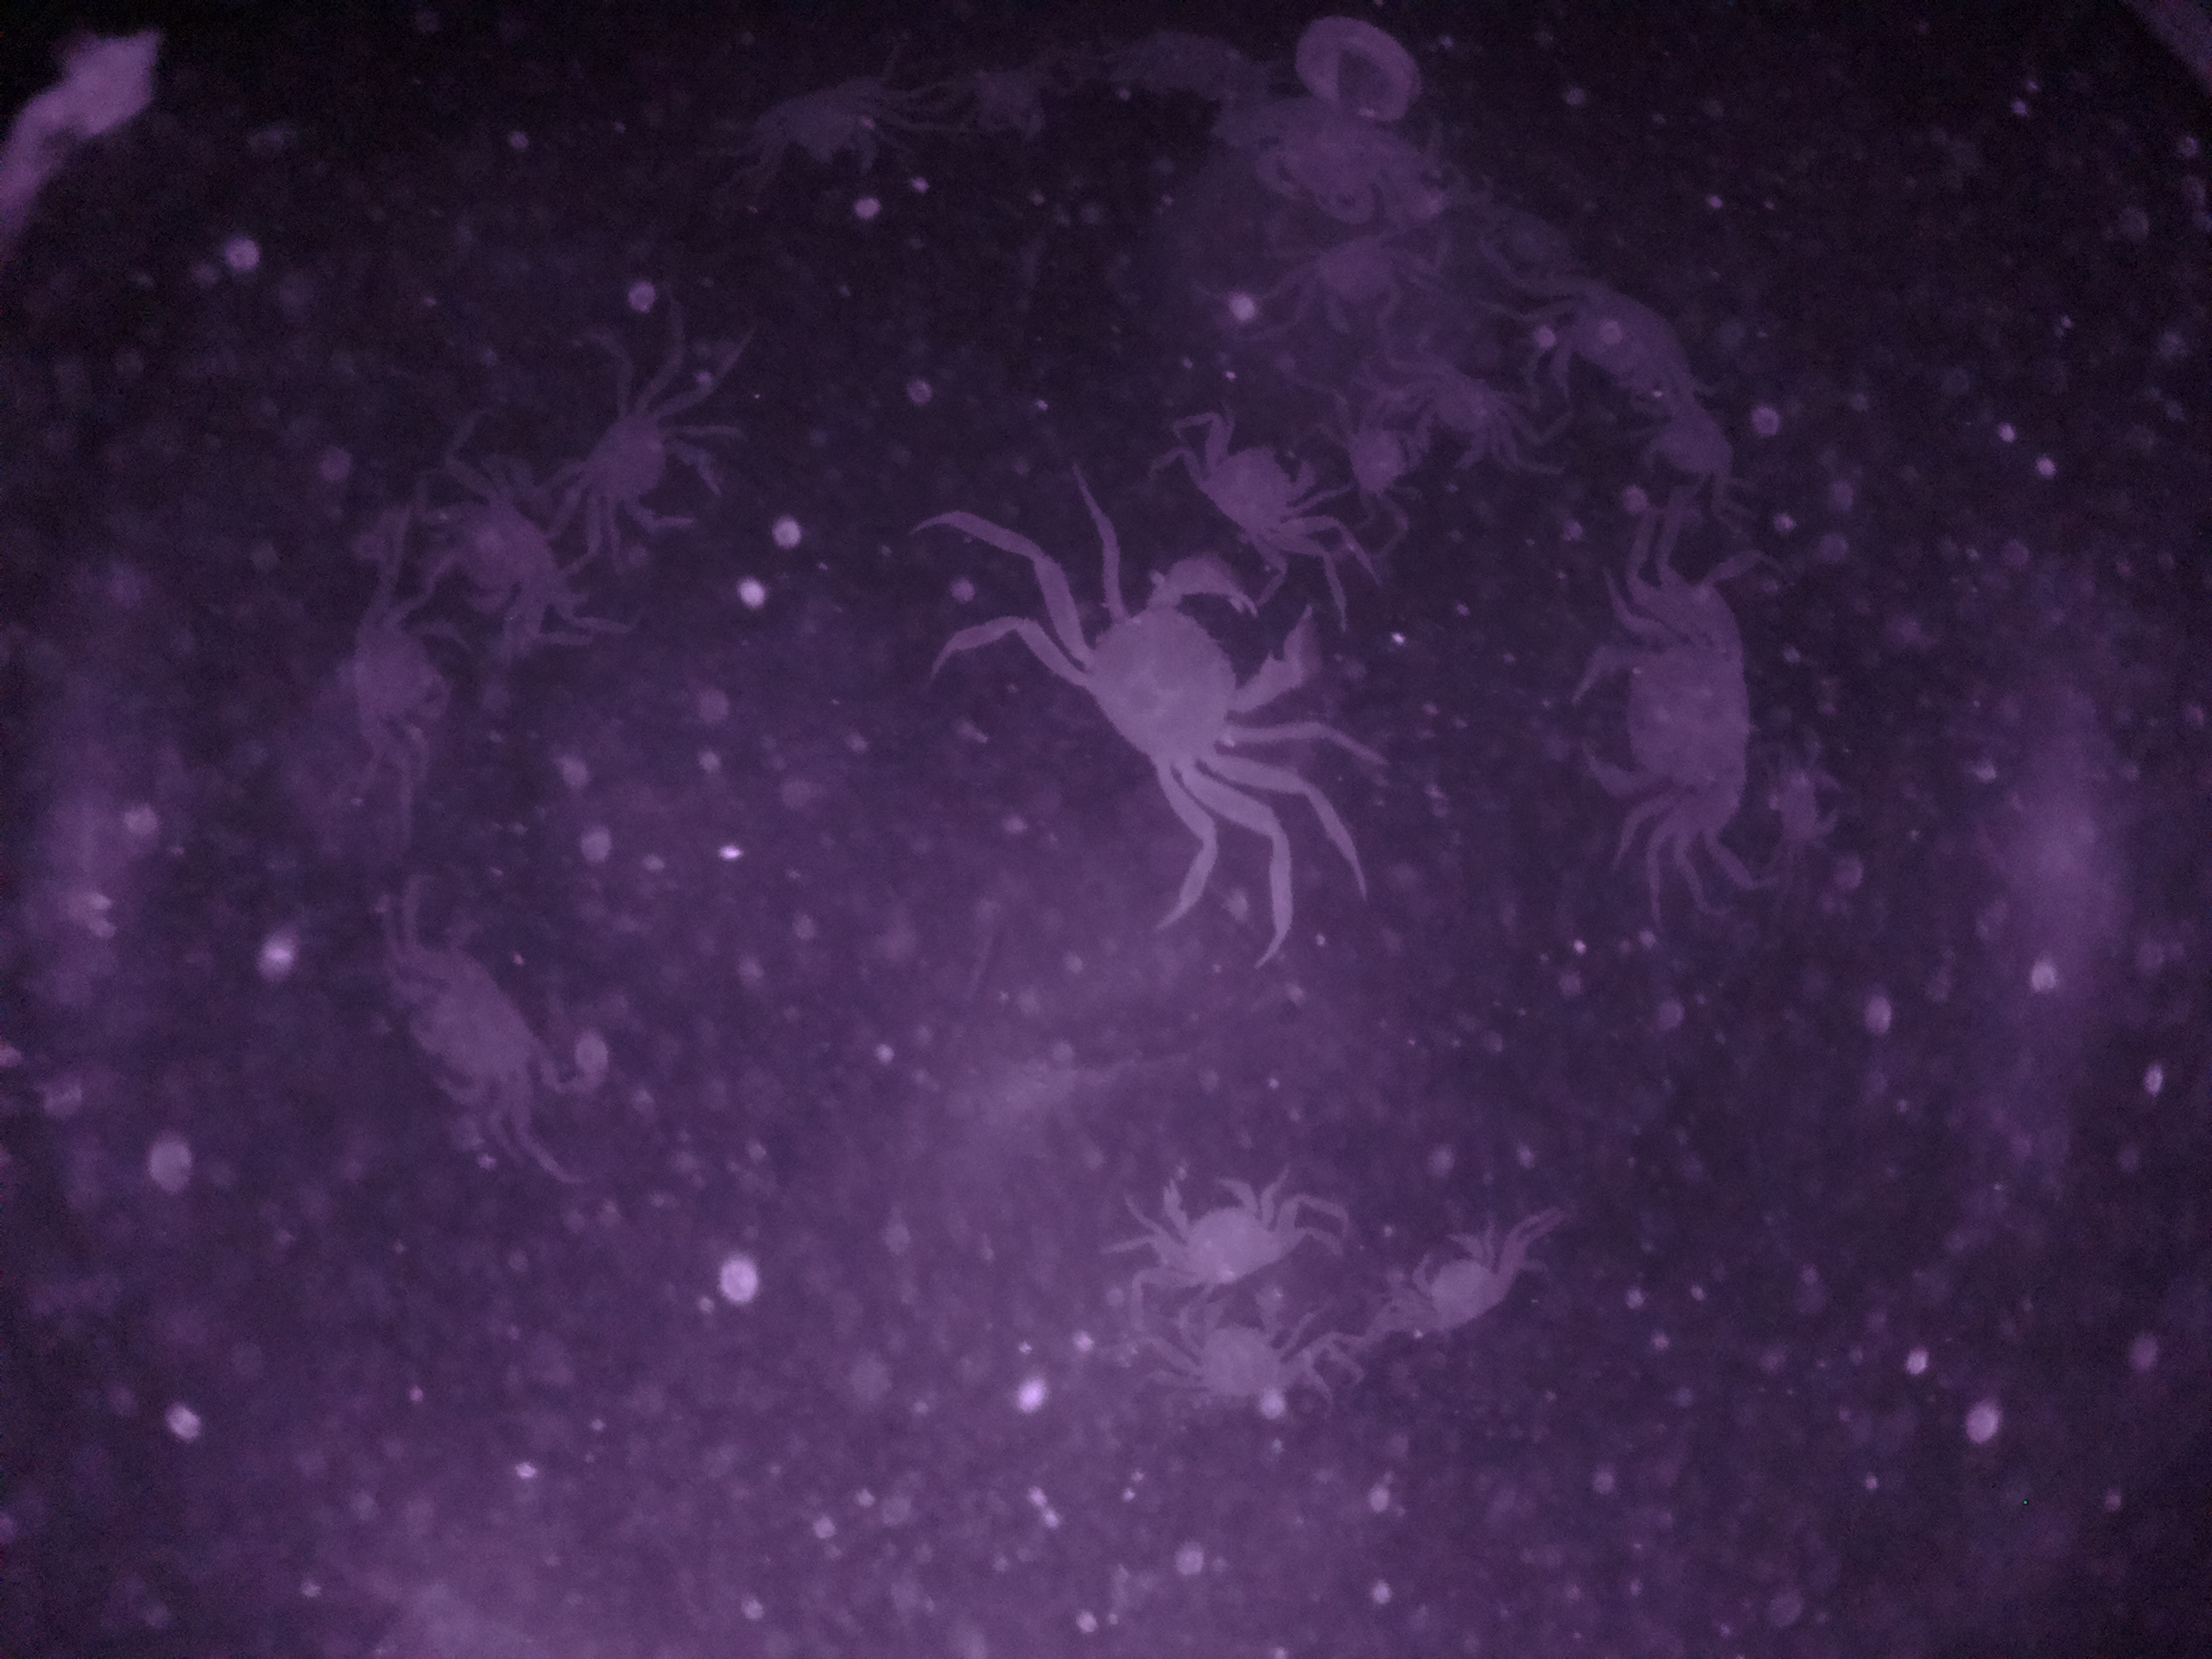Crab: (1035, 554, 1329, 836), (1555, 594, 1778, 856), (1367, 1201, 1573, 1363), (543, 383, 742, 549), (1163, 406, 1346, 579), (1139, 1276, 1329, 1429), (1143, 1145, 1306, 1305), (1367, 345, 1541, 484)
